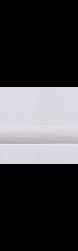Cigarette: (0, 122, 78, 144)
